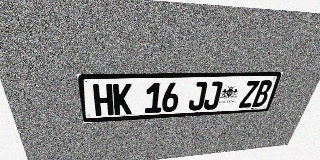1: (145, 83, 163, 113)
6: (161, 82, 181, 112)
B: (251, 80, 273, 107)
H: (92, 84, 114, 116)
J: (188, 82, 208, 111), (203, 81, 223, 110)
K: (113, 83, 131, 115)
Z: (238, 80, 260, 108)
